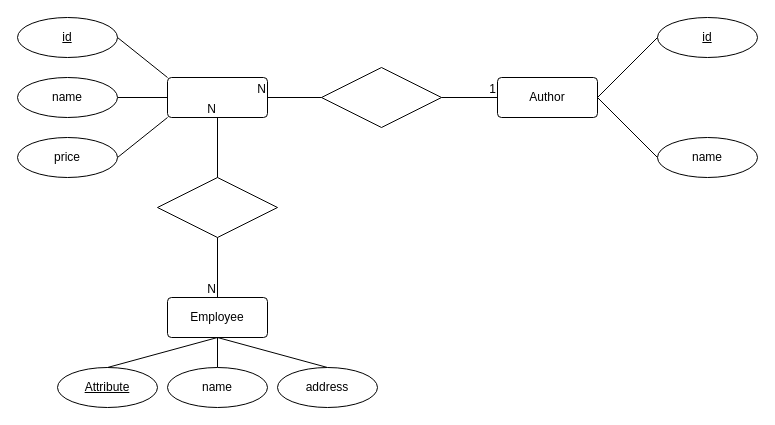
The diagram is 775 pixels wide and 425 high, and some of its shapes have lost their labels. The shapes that lost their labels are listed below. From the top down, each one's box as (x1, y1, x2, y2) in pixels, then its label:
(166, 76, 268, 118): Book
(320, 66, 442, 128): Write
(156, 176, 278, 238): Sell
